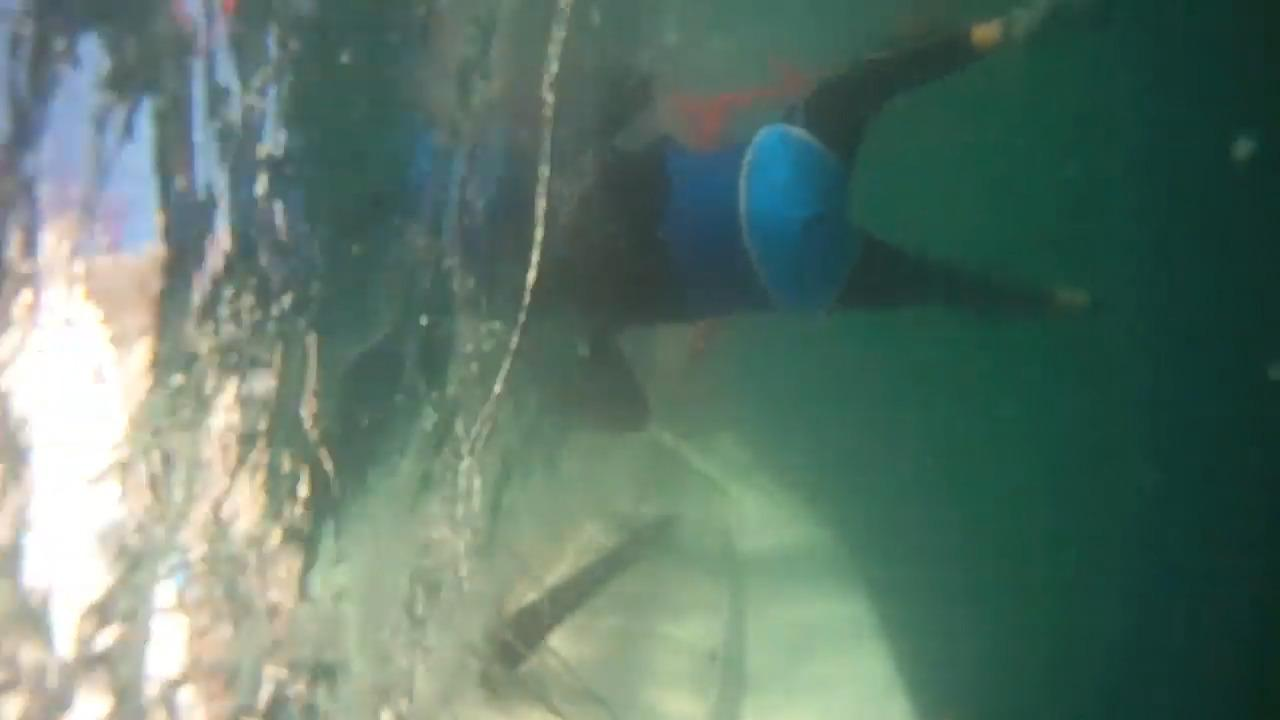boat: (295, 331, 905, 720)
person: (569, 0, 1089, 433)
underwater: (0, 0, 1280, 712)
